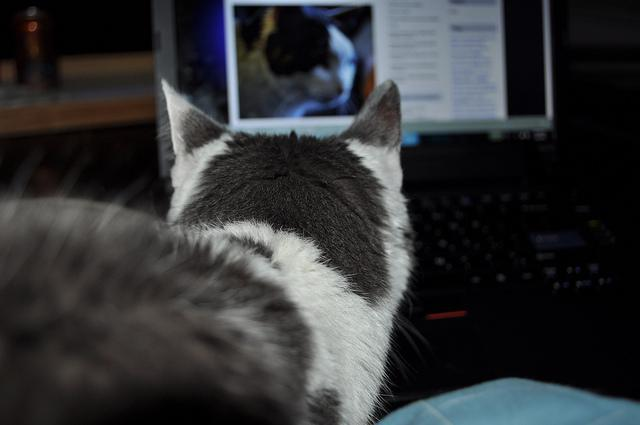tv: (216, 3, 569, 147)
